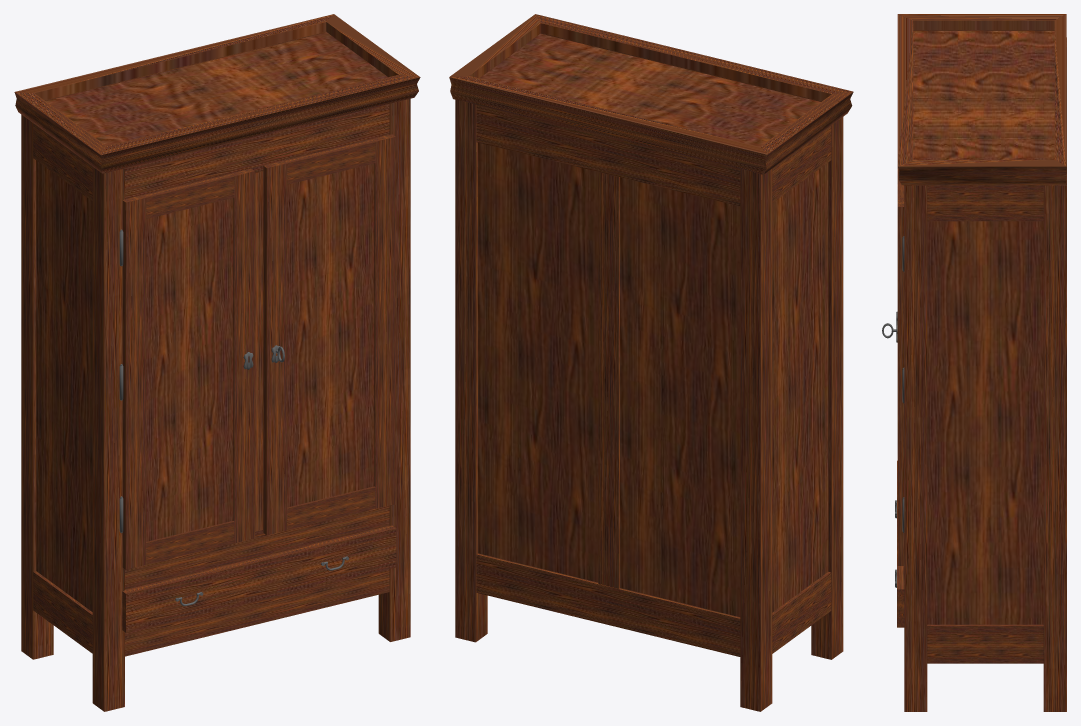
The model's file is ArmoireDS.obj.
3 renders of one model, left to right at view 1: azimuth 30°, elevation 25°; view 2: azimuth 150°, elevation 25°; view 3: azimuth 270°, elevation 25°, orthographic. The views are drawn at different scales.
Parts seen in each view (by area): view 1: cube1_copy6_cube1_copy6_cube1_auv_1, cube1_copy35_cube1_copy35_cube1_auv_1, cube1_copy40_cube1_copy40_cube1_auv_1, cube1_copy23_cube1_copy23_cube1_auv_1, cube1_copy9_cube1_copy9_cube1_auv_1, cube1_copy50_cube1_copy50_cube1_auv_1, cube1_copy43_cube1_copy43_cube1_auv_1, cube1_copy11_cube1_copy11_cube1_auv_1, cube1_copy31_cube1_copy31_cube1_auv_1, cube1_copy36_cube1_copy36_cube1_auv_1, cube1_copy10_cube1_copy10_cube1_auv_1, cube1_copy16_cube1_copy16_cube1_auv_1 (+9 smaller); view 2: cube1_copy27_cube1_copy27_cube1_auv_1, cube1_copy28_cube1_copy28_cube1_auv_1, cube1_copy6_cube1_copy6_cube1_auv_1, cube1_copy23_cube1_copy23_cube1_auv_1, cube1_copy10_cube1_copy10_cube1_auv_1, cube1_copy12_cube1_copy12_cube1_auv_1, cube1_copy20_cube1_copy20_cube1_auv_1, cube1_copy17_cube1_copy17_cube1_auv_1, cube1_copy26_cube1_copy26_cube1_auv_1, cube1_copy9_cube1_copy9_cube1_auv_1, cube1_copy21_cube1_copy21_cube1_auv_1, cube1_copy18_cube1_copy18_cube1_auv_1; view 3: cube1_copy24_cube1_copy24_cube1_auv_1, cube1_copy6_cube1_copy6_cube1_auv_1, cube1_copy12_cube1_copy12_cube1_auv_1, cube1_copy11_cube1_copy11_cube1_auv_1, cube1_copy22_cube1_copy22_cube1_auv_1, cube1_copy19_cube1_copy19_cube1_auv_1, cube1_copy37_cube1_copy37_cube1_auv_1, cube1_copy43_cube1_copy43_cube1_auv_1.
Part boxes in pixels (<box>): cube1_copy6_cube1_copy6_cube1_auv_1: <box>14,14,420,173</box>; cube1_copy35_cube1_copy35_cube1_auv_1: <box>146,198,233,541</box>; cube1_copy40_cube1_copy40_cube1_auv_1: <box>287,163,374,507</box>; cube1_copy23_cube1_copy23_cube1_auv_1: <box>36,160,92,611</box>; cube1_copy9_cube1_copy9_cube1_auv_1: <box>92,167,124,711</box>; cube1_copy50_cube1_copy50_cube1_auv_1: <box>125,505,389,656</box>; cube1_copy43_cube1_copy43_cube1_auv_1: <box>122,525,396,632</box>; cube1_copy11_cube1_copy11_cube1_auv_1: <box>378,98,410,641</box>; cube1_copy31_cube1_copy31_cube1_auv_1: <box>122,195,146,569</box>; cube1_copy36_cube1_copy36_cube1_auv_1: <box>263,160,287,535</box>; cube1_copy10_cube1_copy10_cube1_auv_1: <box>21,114,53,659</box>; cube1_copy16_cube1_copy16_cube1_auv_1: <box>125,104,389,199</box>; cube1_copy27_cube1_copy27_cube1_auv_1: <box>478,142,598,582</box>; cube1_copy28_cube1_copy28_cube1_auv_1: <box>620,177,740,616</box>; cube1_copy6_cube1_copy6_cube1_auv_1: <box>449,14,853,174</box>; cube1_copy23_cube1_copy23_cube1_auv_1: <box>772,163,828,612</box>; cube1_copy10_cube1_copy10_cube1_auv_1: <box>740,168,772,711</box>; cube1_copy12_cube1_copy12_cube1_auv_1: <box>455,99,487,642</box>; cube1_copy20_cube1_copy20_cube1_auv_1: <box>476,553,740,656</box>; cube1_copy17_cube1_copy17_cube1_auv_1: <box>476,105,740,206</box>; cube1_copy26_cube1_copy26_cube1_auv_1: <box>598,172,619,588</box>; cube1_copy9_cube1_copy9_cube1_auv_1: <box>811,117,843,659</box>; cube1_copy21_cube1_copy21_cube1_auv_1: <box>772,571,831,653</box>; cube1_copy18_cube1_copy18_cube1_auv_1: <box>772,126,831,202</box>; cube1_copy24_cube1_copy24_cube1_auv_1: <box>927,221,1043,624</box>; cube1_copy6_cube1_copy6_cube1_auv_1: <box>897,14,1066,185</box>; cube1_copy12_cube1_copy12_cube1_auv_1: <box>1043,174,1066,711</box>; cube1_copy11_cube1_copy11_cube1_auv_1: <box>904,185,927,711</box>; cube1_copy22_cube1_copy22_cube1_auv_1: <box>927,624,1043,663</box>; cube1_copy19_cube1_copy19_cube1_auv_1: <box>927,185,1043,221</box>; cube1_copy37_cube1_copy37_cube1_auv_1: <box>897,197,904,565</box>; cube1_copy43_cube1_copy43_cube1_auv_1: <box>897,460,904,627</box>.
Size of the model in its own units: 119 by 200 by 60.95.
Materials: 44 (33 with a texture image).
